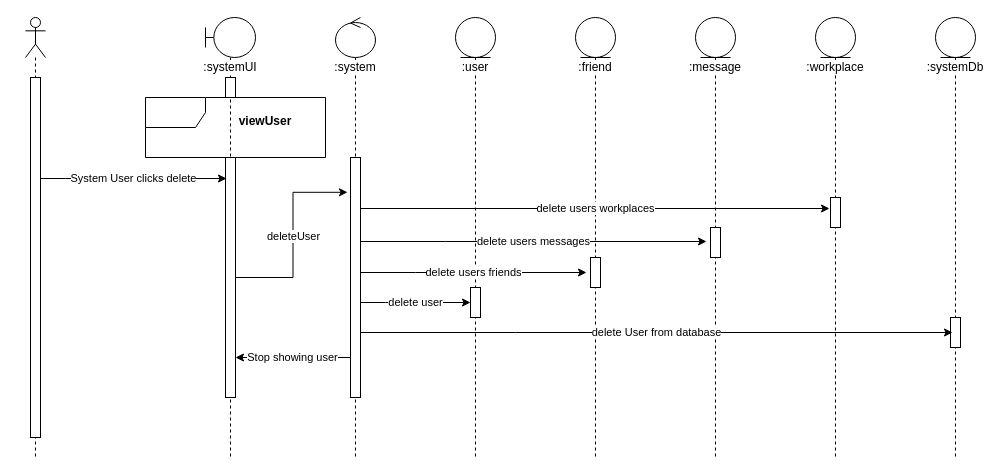
Image size: 1001x475. Some labels were removed from this diagram. The box of each missing label's shape, as (x1, y1, x2, y2) in pixels:
:admin: (24, 16, 46, 458)
ref: (144, 96, 326, 158)
